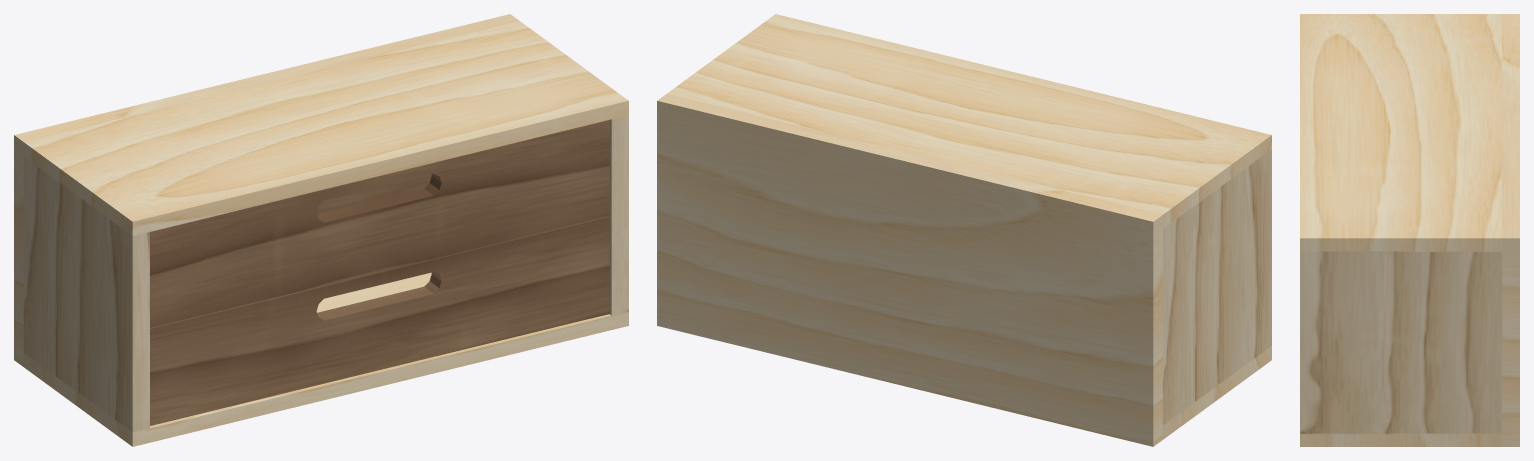
The model's file is tana.fbx.
3 renders of one model, left to right at view 1: azimuth 30°, elevation 25°; view 2: azimuth 150°, elevation 25°; view 3: azimuth 270°, elevation 25°, orthographic. The views are drawn at different scales.
Parts seen in each view (by area): view 1: tana1; view 2: tana1; view 3: tana1.
Boxes of the visible parts, <box> form: tana1: <box>14,14,628,446</box>; tana1: <box>657,14,1271,446</box>; tana1: <box>1300,14,1519,446</box>.
Bounding box in the file's own units: 290 × 126 × 120.
Materials: 1 (1 with a texture image).
